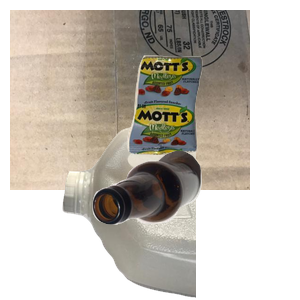cardboard: (10, 10, 250, 190)
glass: (90, 148, 300, 300)
plastic: (60, 120, 300, 300)
trash: (125, 53, 300, 201)
